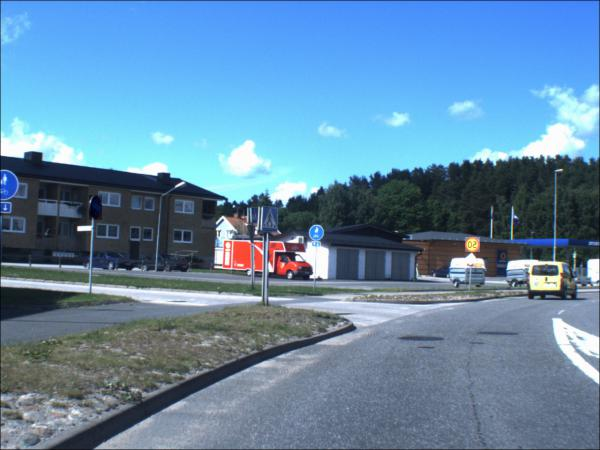50_SIGN: (465, 238, 481, 254)
NO_PARKING: (89, 197, 103, 223)
PEDESTRIAN_CROSSING: (262, 209, 279, 232), (252, 209, 259, 224)
PRIORITY_ROAD: (465, 254, 477, 267)
